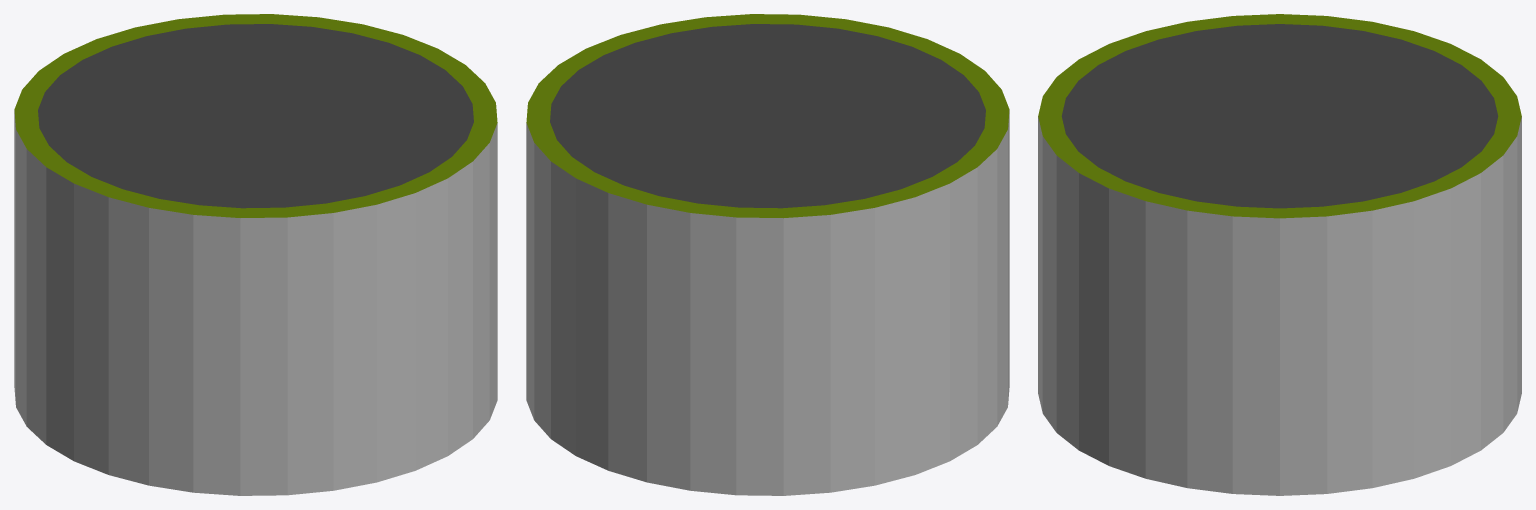
Rendered from IronballTrap.obj.
The picture shows the model from 3 angles, left to right: view 1: azimuth 30°, elevation 25°; view 2: azimuth 150°, elevation 25°; view 3: azimuth 270°, elevation 25°; orthographic projection.
Visible parts, largest first — view 1: 円柱; view 2: 円柱; view 3: 円柱.
Part boxes in pixels (bbox=[...]): 円柱: bbox=[14, 14, 497, 495]; 円柱: bbox=[526, 14, 1009, 495]; 円柱: bbox=[1038, 14, 1521, 495].
Bounding box in the file's own units: 1.15 × 0.7271 × 1.15.
